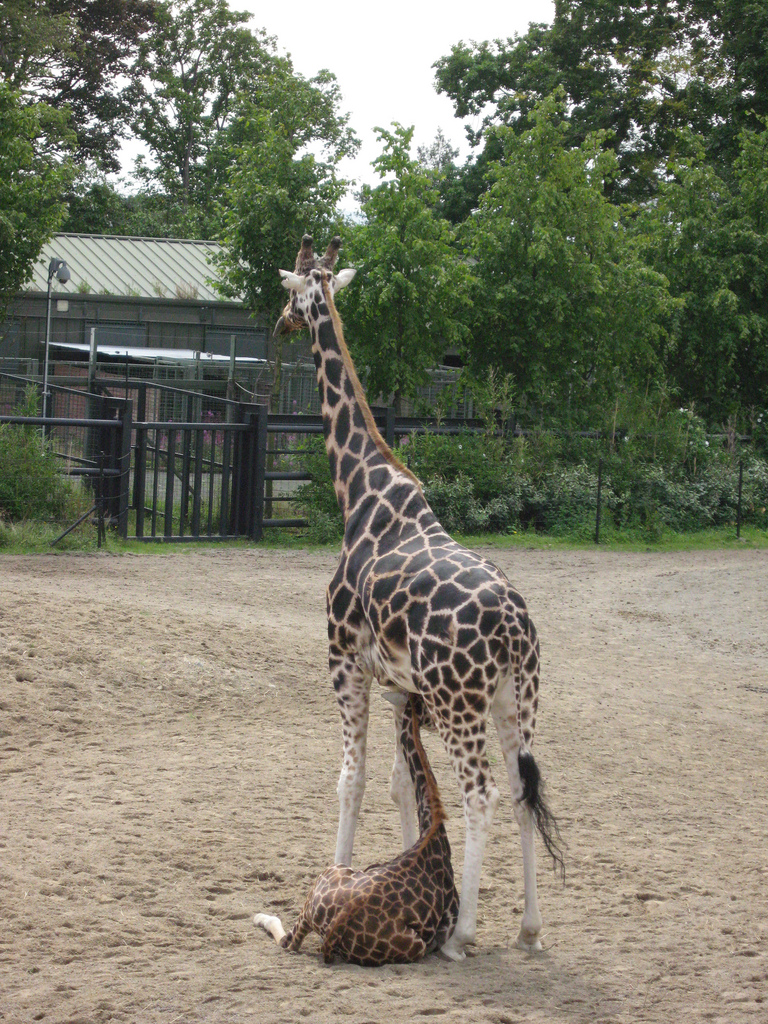giraffe: (233, 242, 597, 894), (198, 662, 493, 986)
